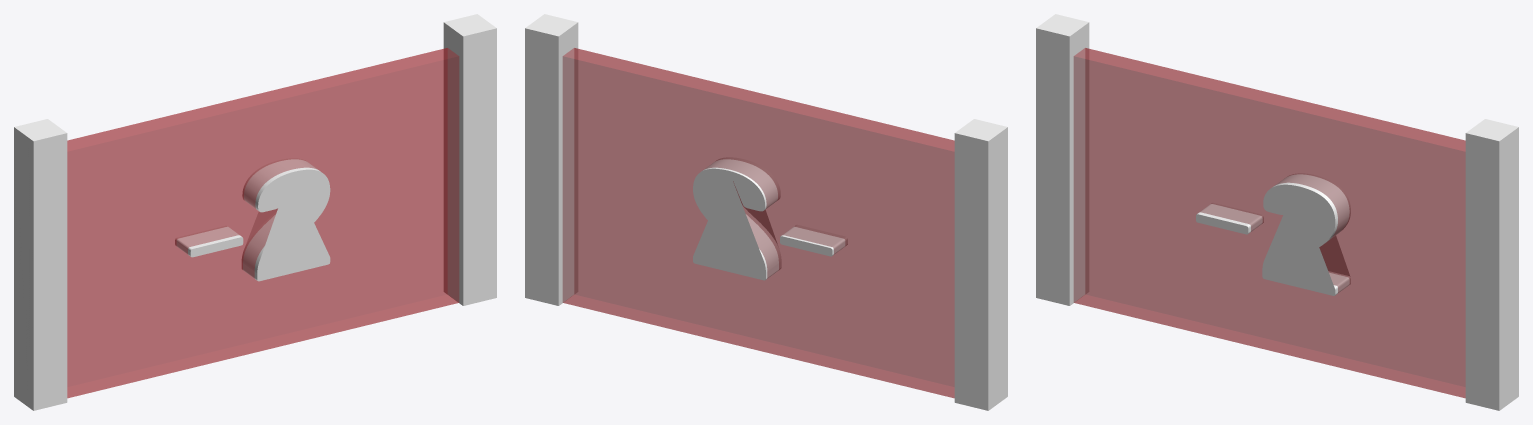
3 renders of one model, left to right at view 1: azimuth 30°, elevation 25°; view 2: azimuth 150°, elevation 25°; view 3: azimuth 330°, elevation 25°, orthographic.
Visible parts, largest first — view 1: Cube_3, Cube_1, Cube_2, 2_3, __5; view 2: Cube_3, Cube_1, Cube_2, 2_3, __5; view 3: Cube_3, Cube_2, Cube_1, 2_3, __5.
Boxes of the visible parts, <box> form: Cube_3: <box>67,48,458,397</box>; Cube_1: <box>14,119,67,410</box>; Cube_2: <box>443,14,496,305</box>; 2_3: <box>242,158,330,281</box>; __5: <box>175,226,243,257</box>; Cube_3: <box>563,48,954,397</box>; Cube_1: <box>954,119,1007,410</box>; Cube_2: <box>525,14,578,305</box>; 2_3: <box>693,157,781,280</box>; __5: <box>780,225,847,256</box>; Cube_3: <box>1074,48,1465,397</box>; Cube_2: <box>1465,119,1518,410</box>; Cube_1: <box>1036,14,1089,305</box>; 2_3: <box>1262,173,1350,295</box>; __5: <box>1196,203,1263,234</box>.
Bounding box in the file's own units: 393 × 219 × 28.63.
